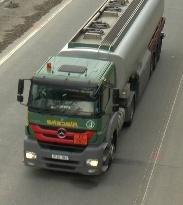Truck: (17, 0, 165, 177)
